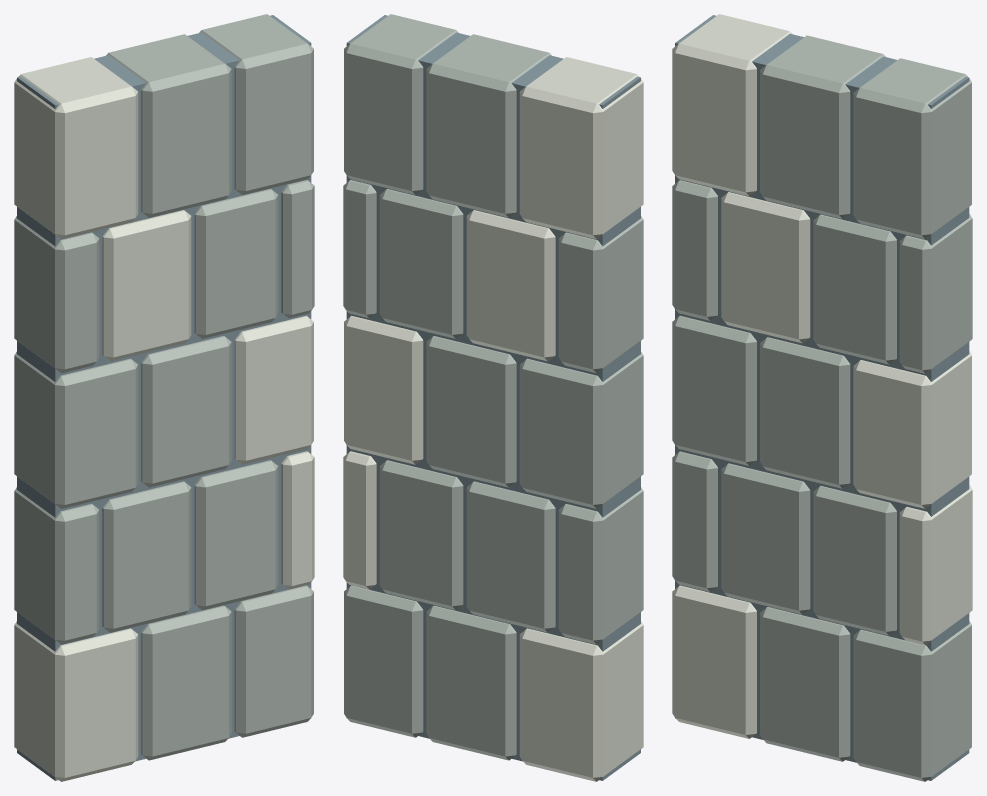
Rendered from world_dungeon_wall.fbx.
3 renders of one model, left to right at view 1: azimuth 30°, elevation 25°; view 2: azimuth 150°, elevation 25°; view 3: azimuth 330°, elevation 25°, orthographic.
Visible parts, largest first — view 1: world_dungeon_wall_mesh; view 2: world_dungeon_wall_mesh; view 3: world_dungeon_wall_mesh.
Boxes of the visible parts, <box> form: world_dungeon_wall_mesh: <box>14,14,314,781</box>; world_dungeon_wall_mesh: <box>343,14,643,781</box>; world_dungeon_wall_mesh: <box>672,14,972,781</box>.
Bounding box in the file's own units: 1 × 2.5 × 0.32.
